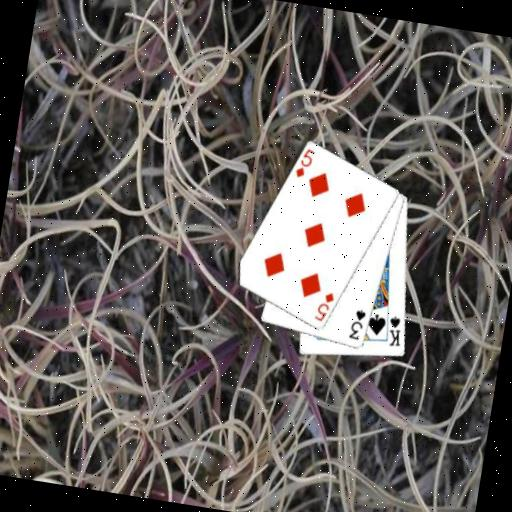3S: (345, 305, 368, 342)
5D: (291, 144, 317, 182), (311, 287, 337, 324)
KS: (383, 312, 406, 349)
